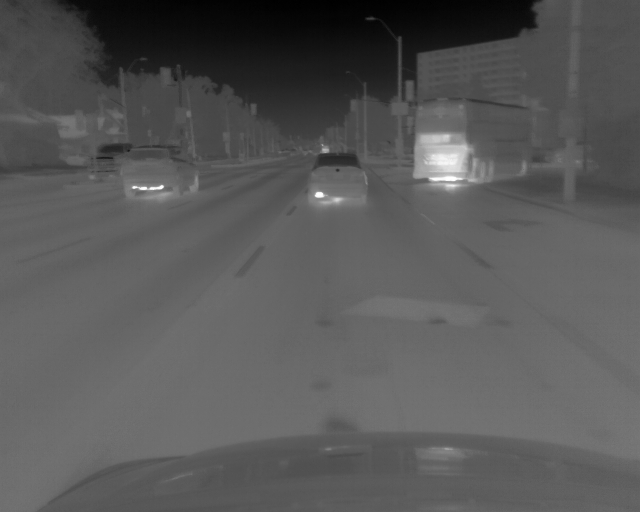car: (413, 98, 535, 184), (124, 144, 201, 202), (307, 153, 367, 206), (86, 143, 126, 181)
